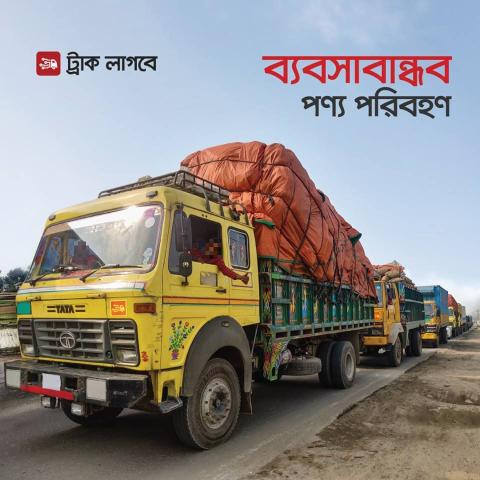truck: (11, 176, 375, 440), (370, 255, 427, 372), (419, 276, 449, 350), (450, 293, 462, 337)
